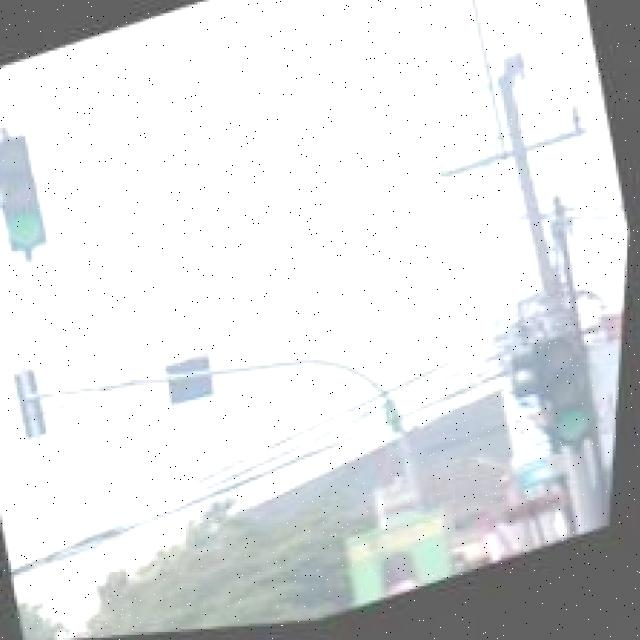Lampu Hijau: (530, 335, 610, 464), (0, 123, 66, 263)
